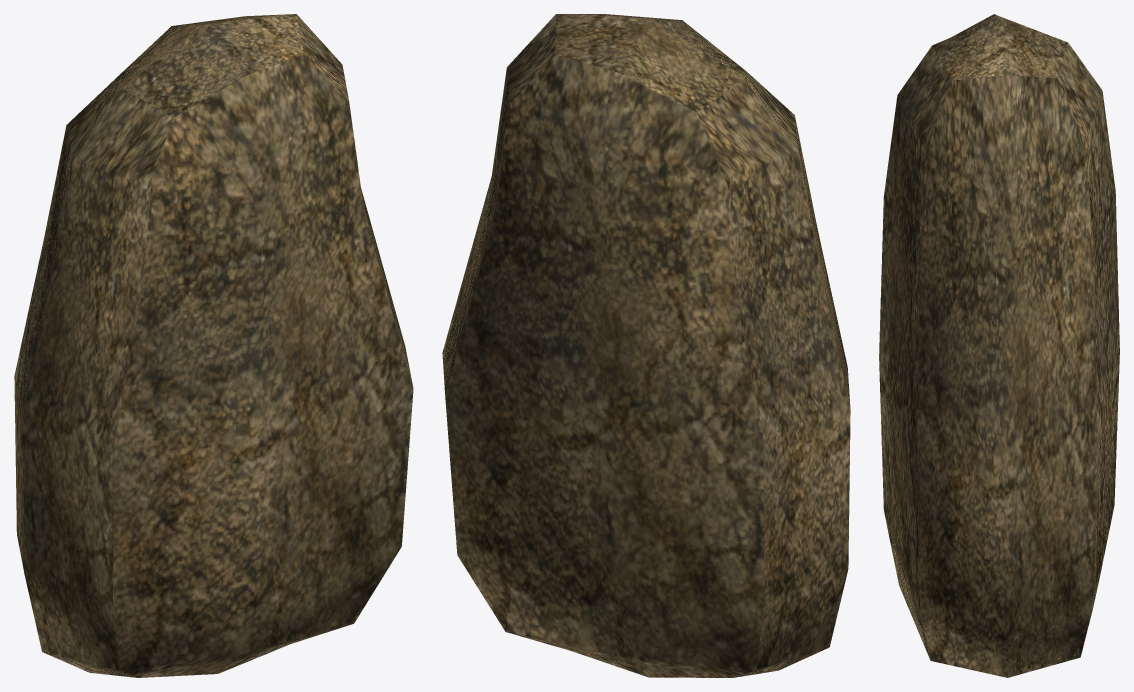
Rendered from CH09_SMAUG_PLAYSURFACE_LONELYMOUNTAIN_LM_PLAYSURFACE01.fbx.
3 views of the same model, side by side, from view 1: azimuth 30°, elevation 25°; view 2: azimuth 150°, elevation 25°; view 3: azimuth 270°, elevation 25° (orthographic). The views are drawn at different scales.
Visible parts, largest first — view 1: CH09_SMAUG_PLAYSURFACE_LONELYMOUNTAIN_LM_PLAYSURFACE01; view 2: CH09_SMAUG_PLAYSURFACE_LONELYMOUNTAIN_LM_PLAYSURFACE01; view 3: CH09_SMAUG_PLAYSURFACE_LONELYMOUNTAIN_LM_PLAYSURFACE01.
Part boxes in pixels (x1,y1,x2,y2): CH09_SMAUG_PLAYSURFACE_LONELYMOUNTAIN_LM_PLAYSURFACE01: (14,14,413,677); CH09_SMAUG_PLAYSURFACE_LONELYMOUNTAIN_LM_PLAYSURFACE01: (442,14,850,677); CH09_SMAUG_PLAYSURFACE_LONELYMOUNTAIN_LM_PLAYSURFACE01: (879,14,1119,677).
Bounding box in the file's own units: 12844 × 19671 × 6932.
1 material, 1 textured.
